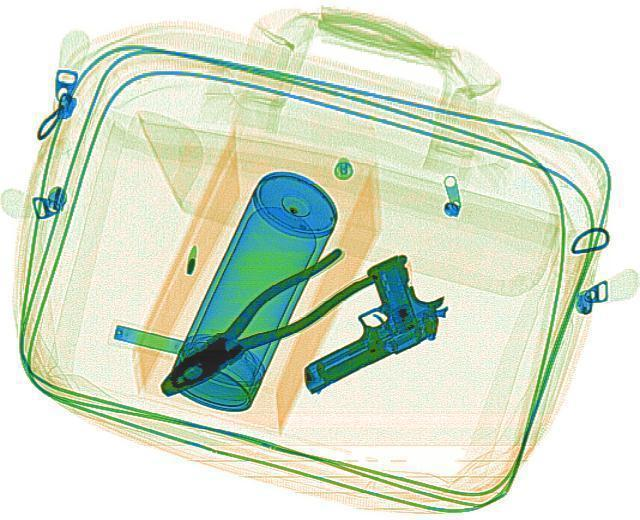Gun: (249, 248, 467, 394)
Pliers: (136, 239, 378, 413)
